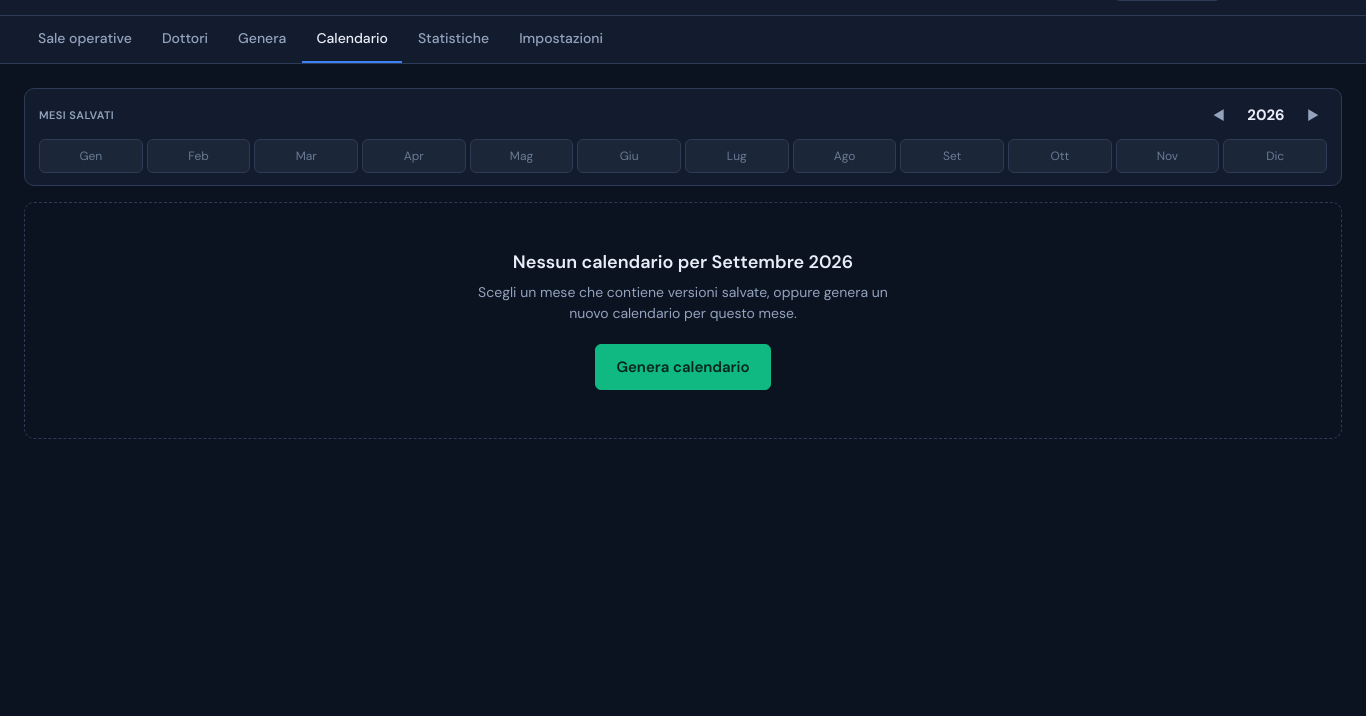
Scenario: avvio a vuoto › naviga fra tutte le sezioni senza errori
Click the button "Sale operative" at (85, 40), box [24, 16, 146, 63]
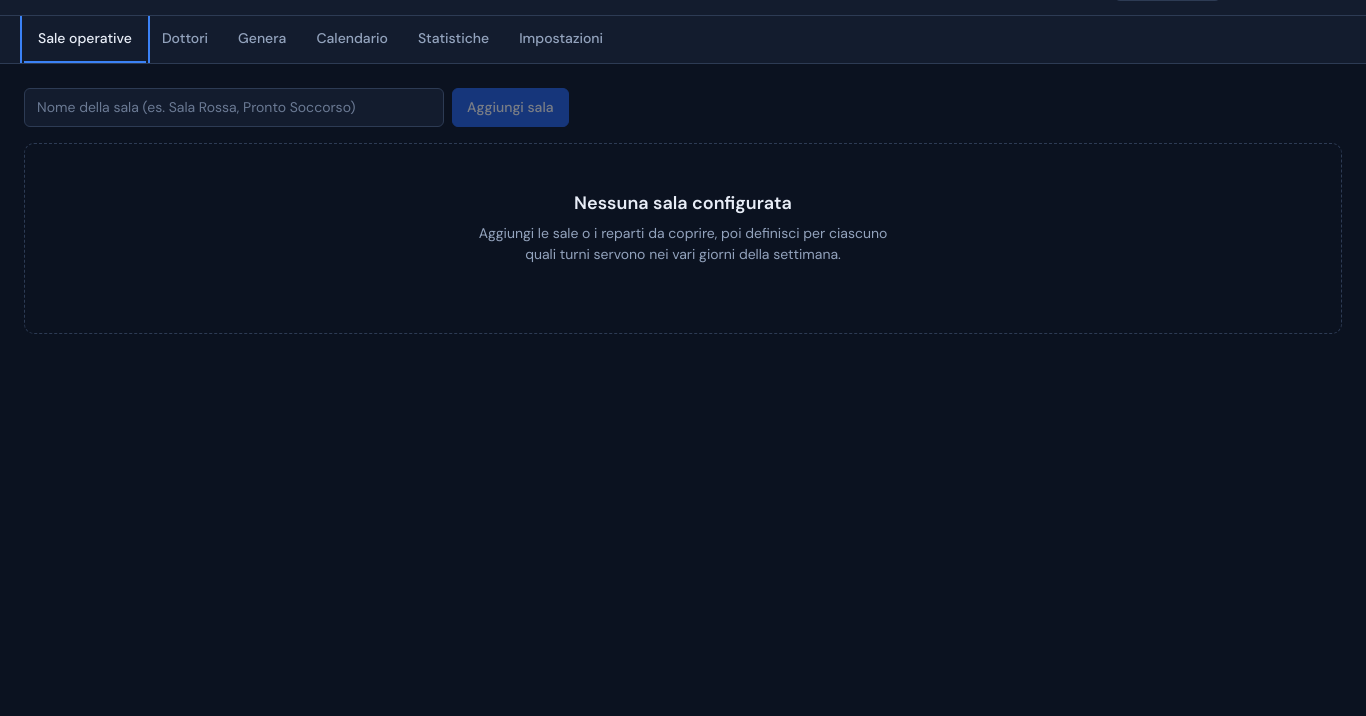
Click the button "Dottori" at (185, 40), box [148, 16, 222, 63]
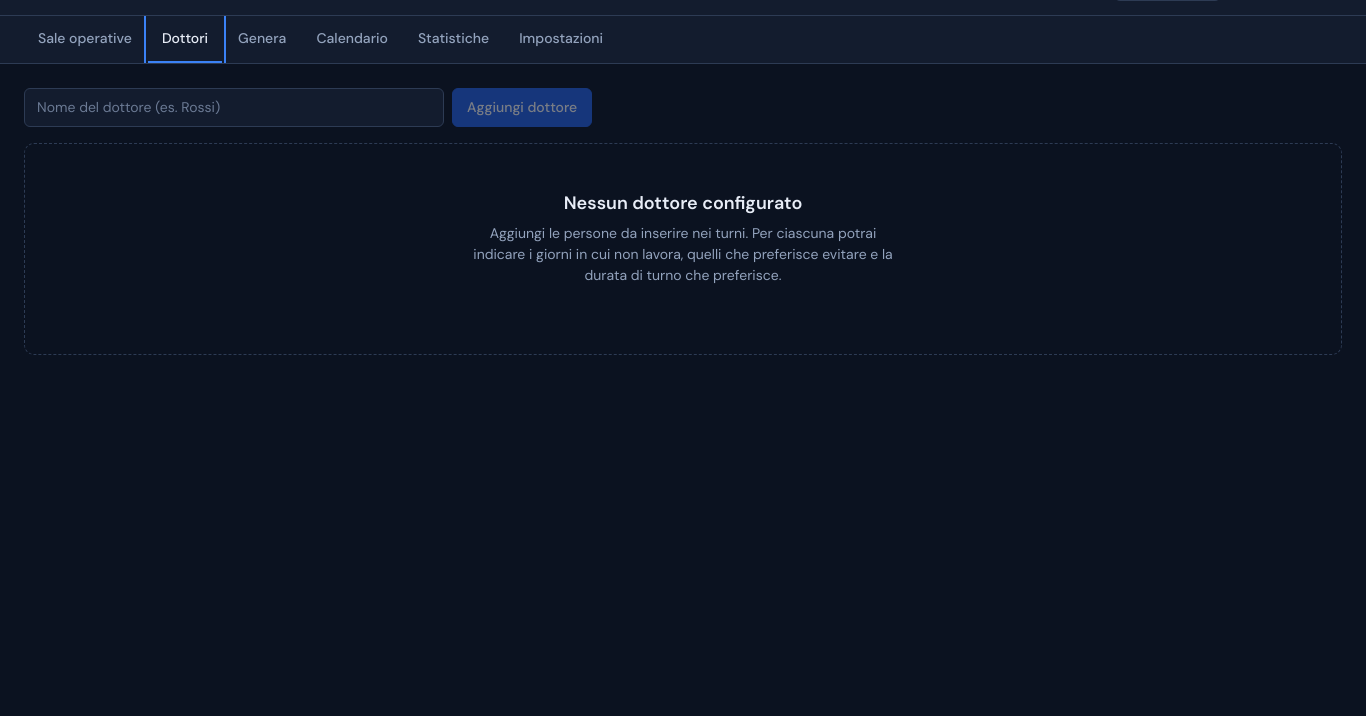
Click the button "Genera" at (262, 40), box [224, 16, 300, 63]
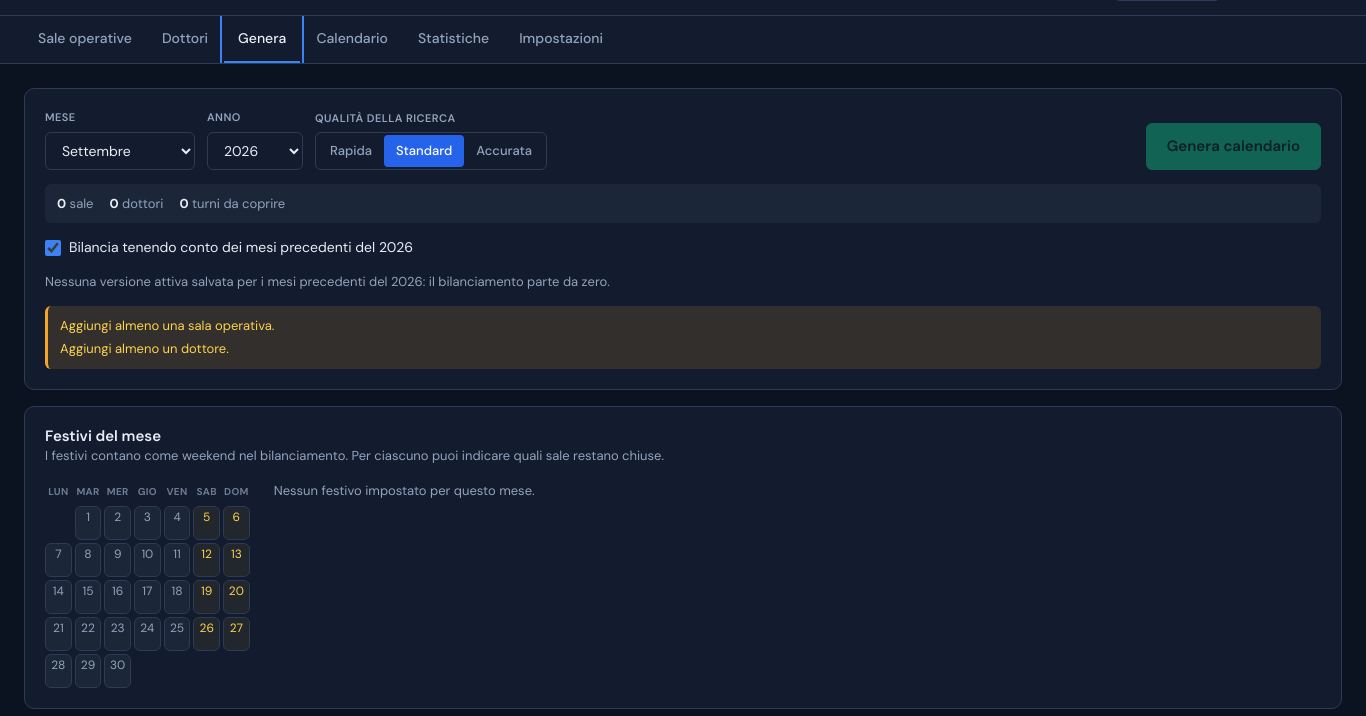
Click the button "Calendario" at (352, 40), box [302, 16, 402, 63]
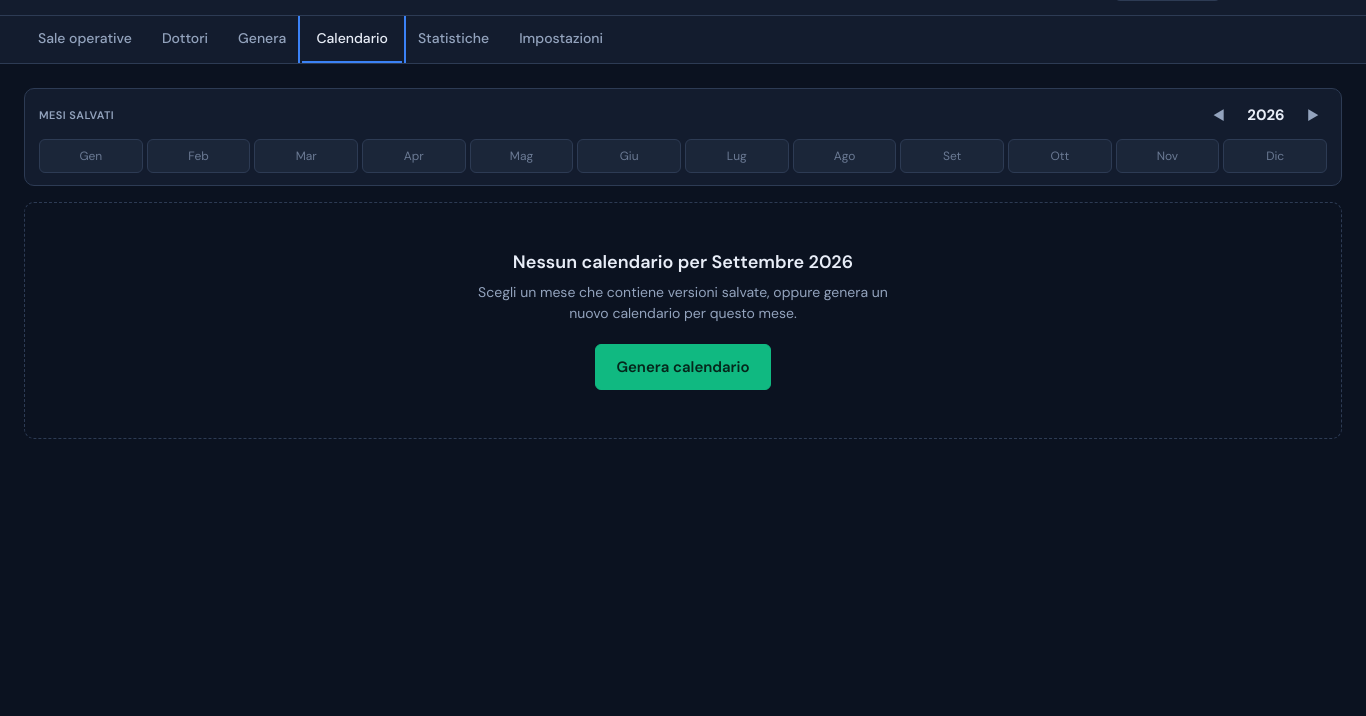
Click the button "Statistiche" at (454, 40), box [404, 16, 503, 63]
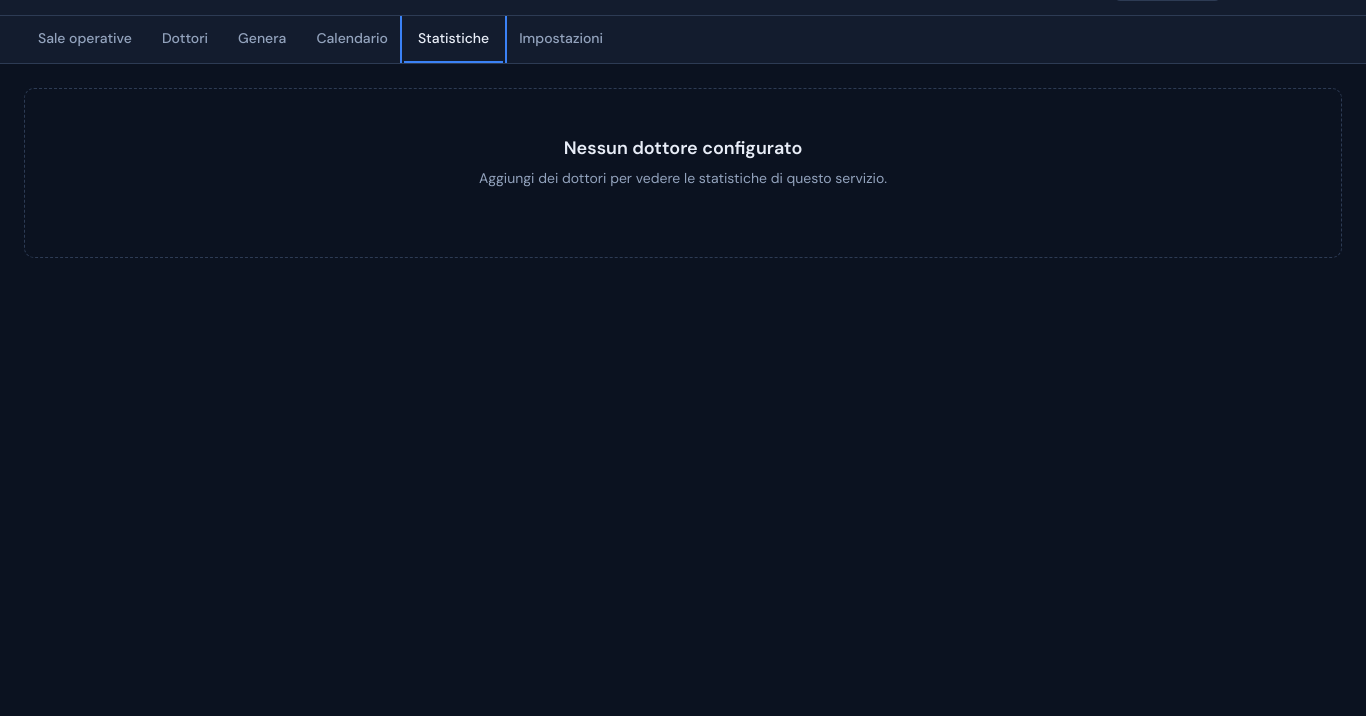
Click the button "Impostazioni" at (561, 40), box [505, 16, 617, 63]
(page scrolled)
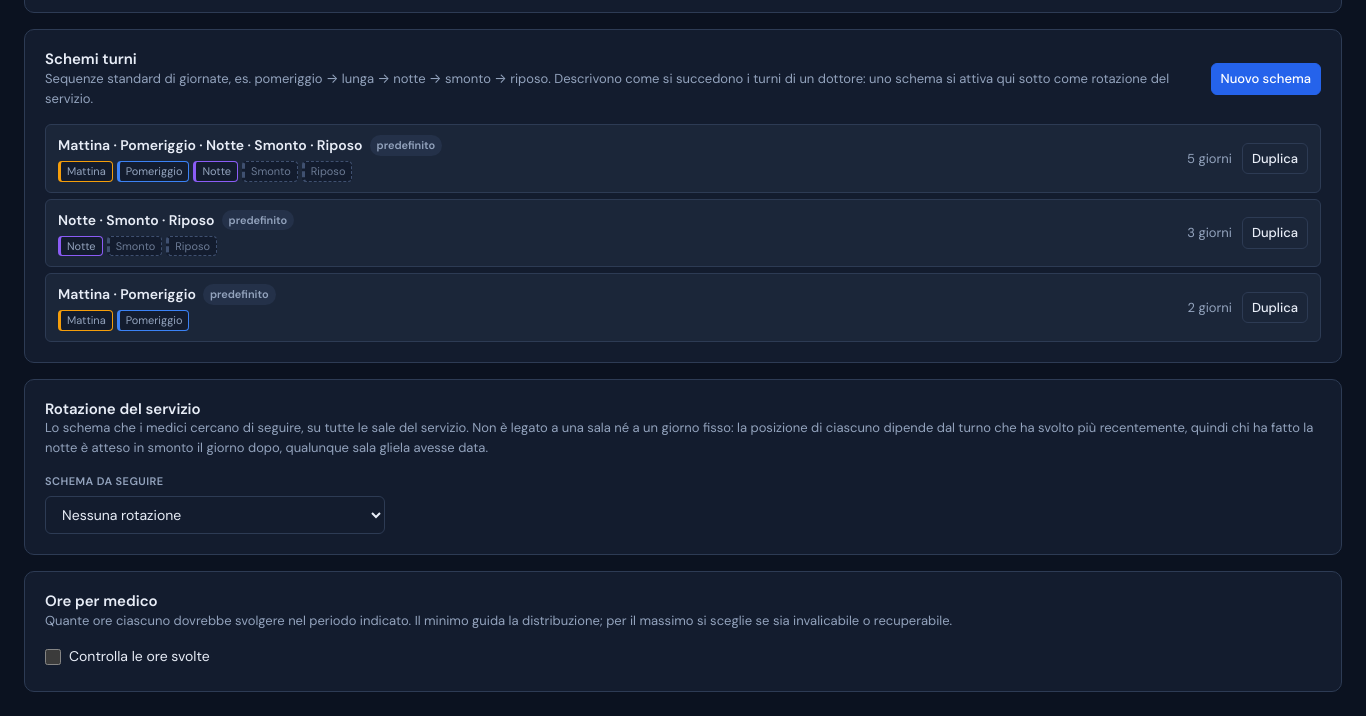
Result: the heading "Schemi turni" is shown at [45, 49, 137, 69]
Result: the heading "Rotazione del servizio" is shown at [45, 398, 201, 418]
